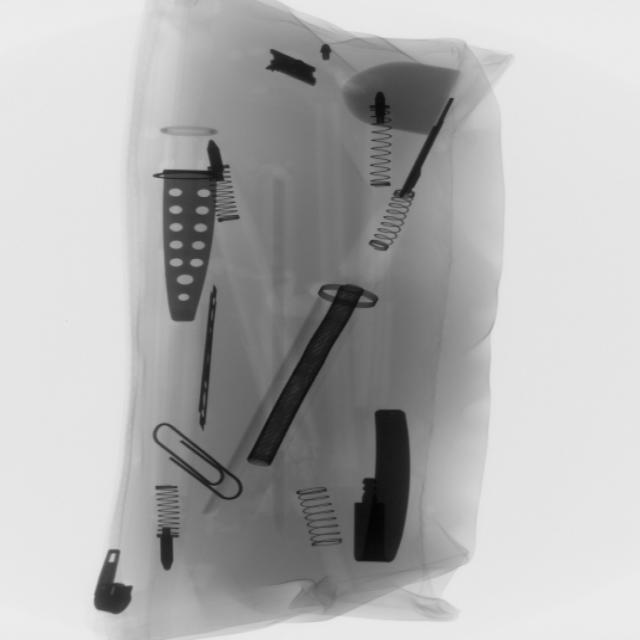SHURIKEN: (187, 282, 229, 434)
